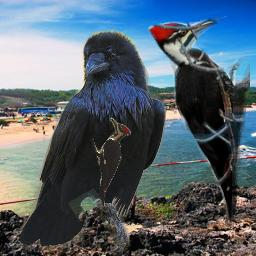Crow: (20, 30, 166, 252)
Woodpecker: (148, 16, 250, 236), (90, 118, 131, 208)
